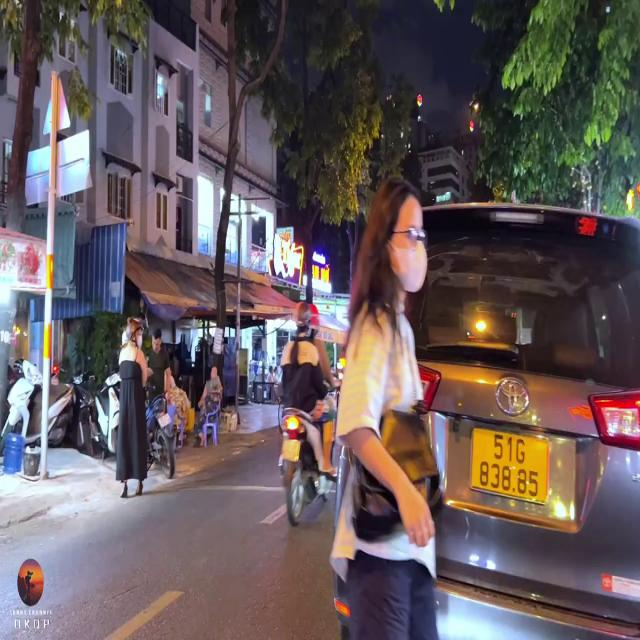bien_vang: (466, 426, 552, 507)
